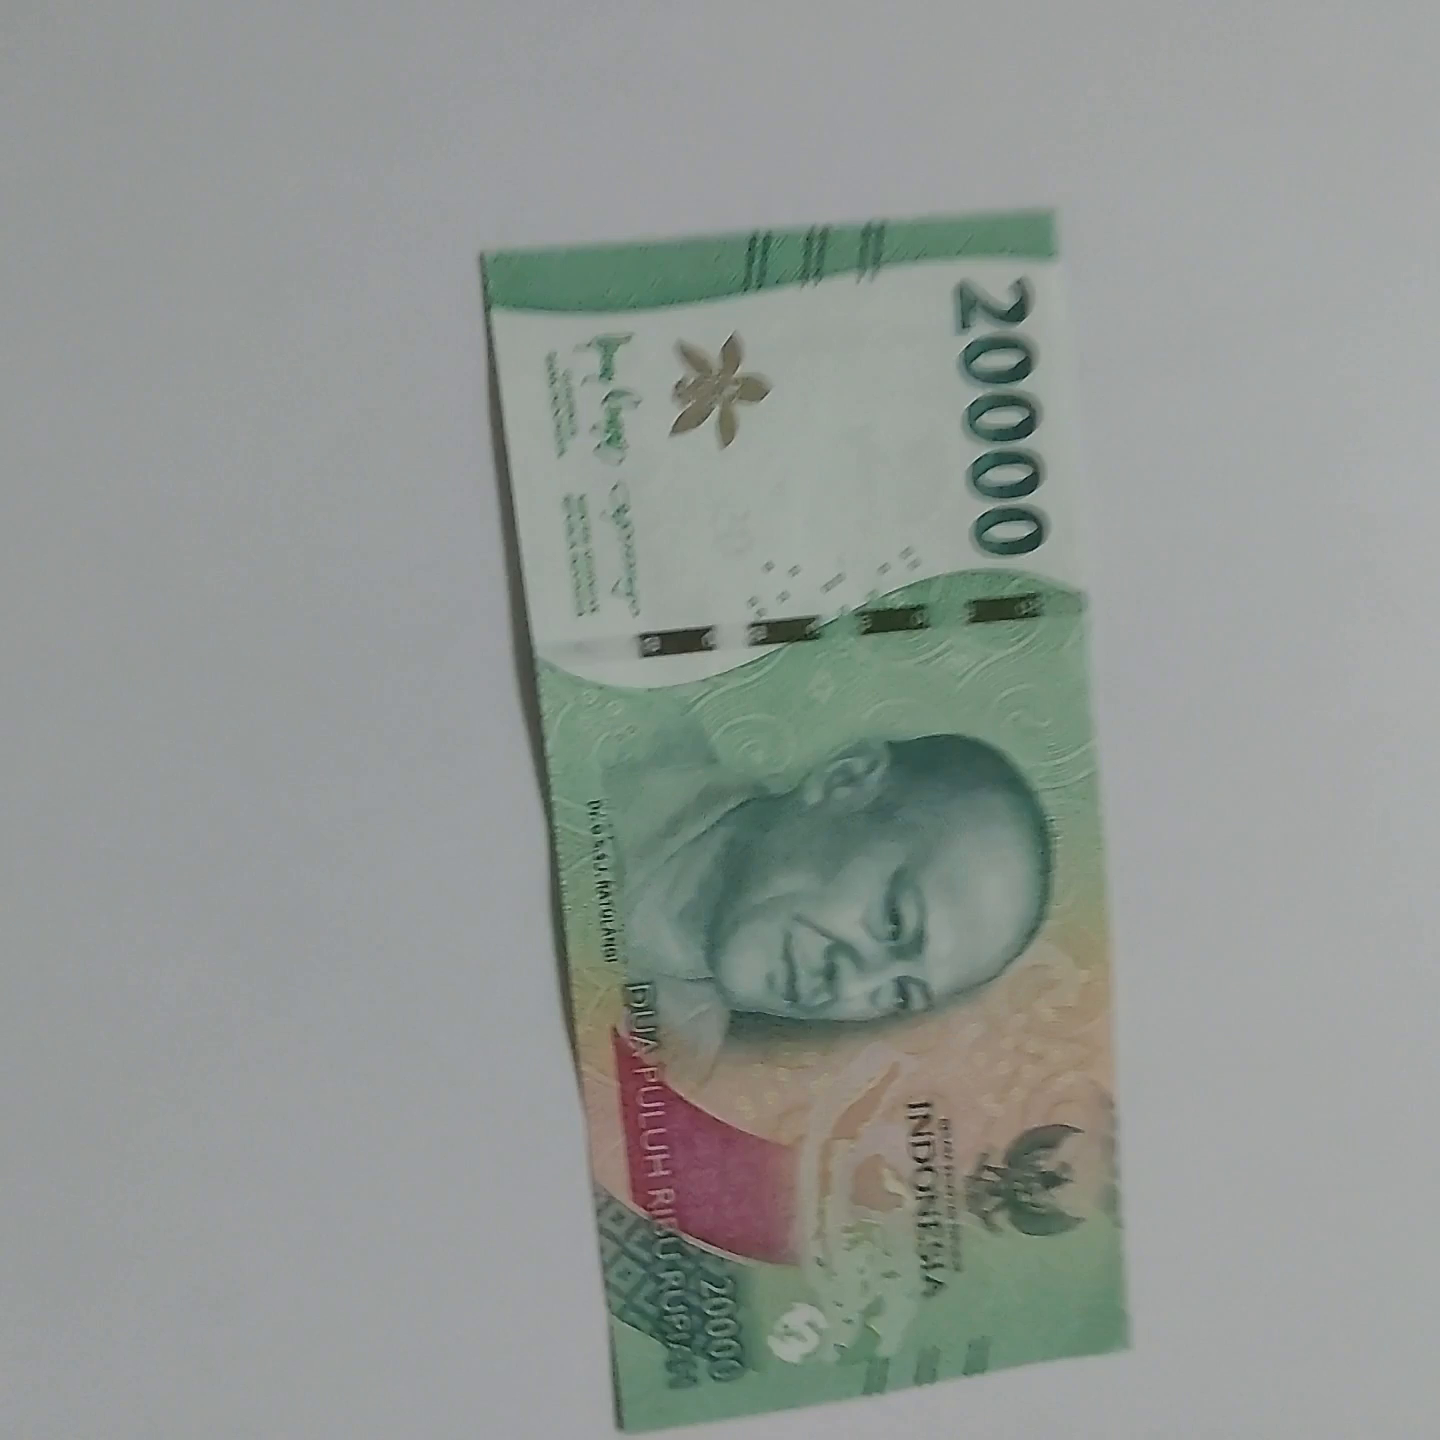20k: (401, 187, 1139, 1437)
